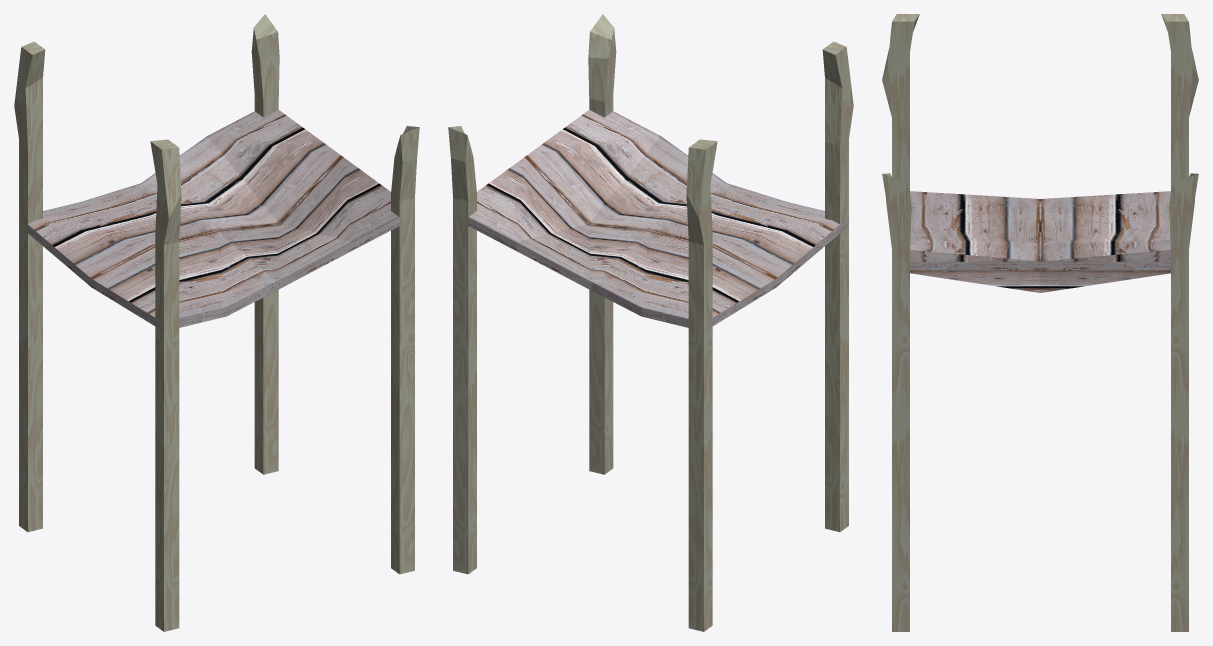
3 renders of one model, left to right at view 1: azimuth 30°, elevation 25°; view 2: azimuth 150°, elevation 25°; view 3: azimuth 270°, elevation 25°, orthographic. The views are drawn at different scales.
Parts seen in each view (by area): view 1: brid009_woodboard_0, brid009_woodsemwhite_0; view 2: brid009_woodboard_0, brid009_woodsemwhite_0; view 3: brid009_woodsemwhite_0, brid009_woodboard_0.
Part boxes in pixels (x1,y1,x2,y2): brid009_woodboard_0: (28,109,399,331); brid009_woodsemwhite_0: (14,14,419,631); brid009_woodboard_0: (468,109,848,330); brid009_woodsemwhite_0: (448,14,853,631); brid009_woodsemwhite_0: (882,14,1198,631); brid009_woodboard_0: (910,191,1170,292).
Size of the model in its own units: 3 by 5.49 by 3.2.
2 materials, 2 textured.
